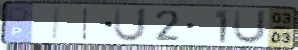1: (213, 8, 231, 45)
2: (153, 9, 182, 43)
I: (50, 6, 63, 42), (80, 7, 91, 42)
U: (230, 8, 270, 46), (111, 6, 150, 44)
